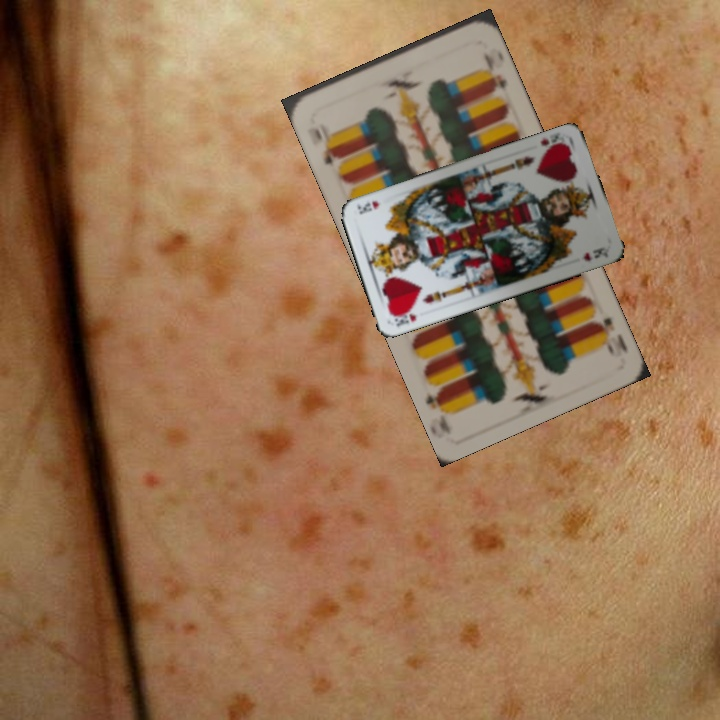E10: (588, 313, 631, 360), (310, 119, 343, 168)
HK: (390, 306, 419, 329), (536, 131, 561, 149)
